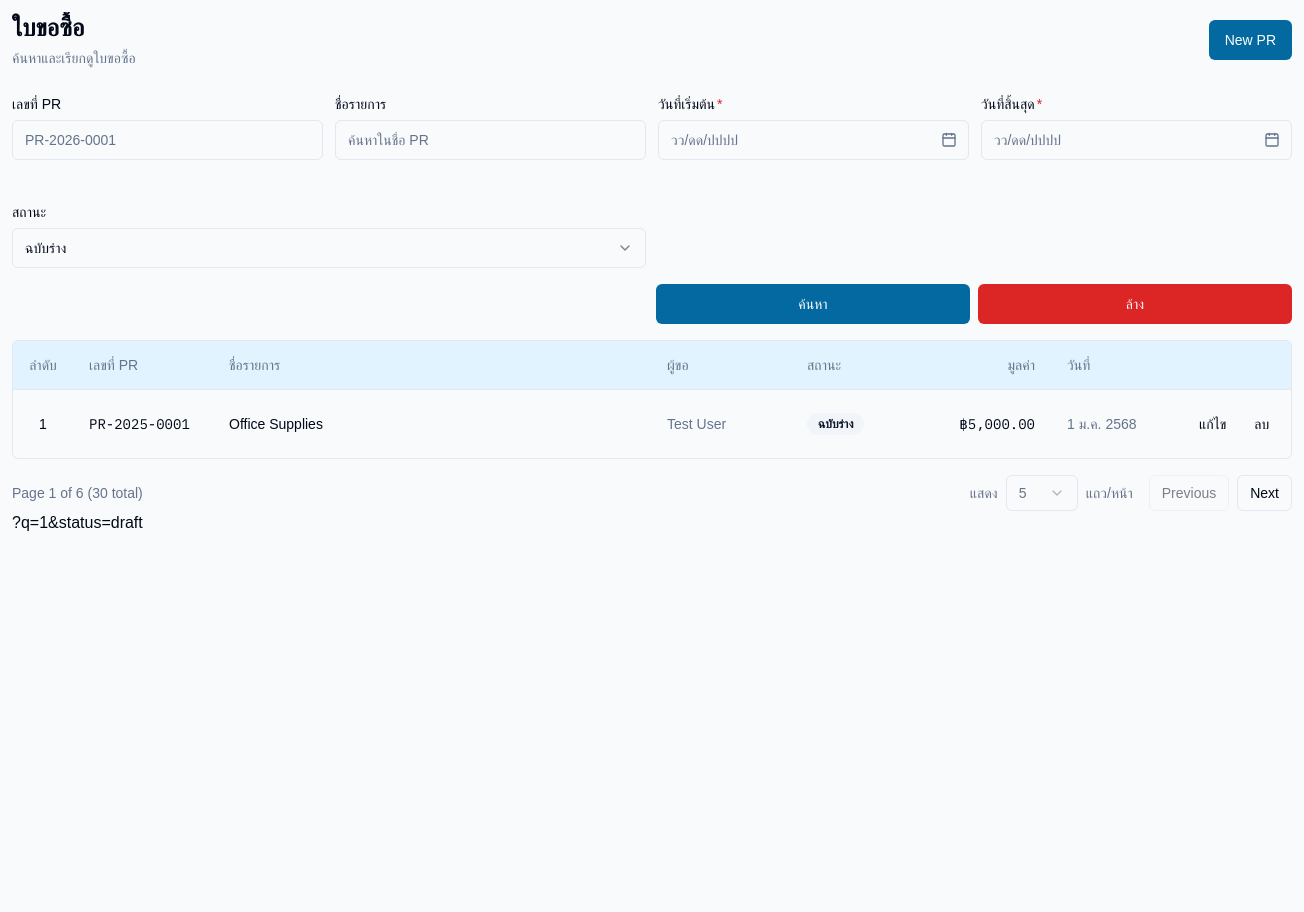
Test: PRListPage › preserves ?status= in the URL when the page size changes (merge-safe)
This screenshot has width=1304, height=912.
Click the dropdown named "จำนวนแถวต่อหน้า" at coordinates (1042, 492), box [1006,474,1078,510]
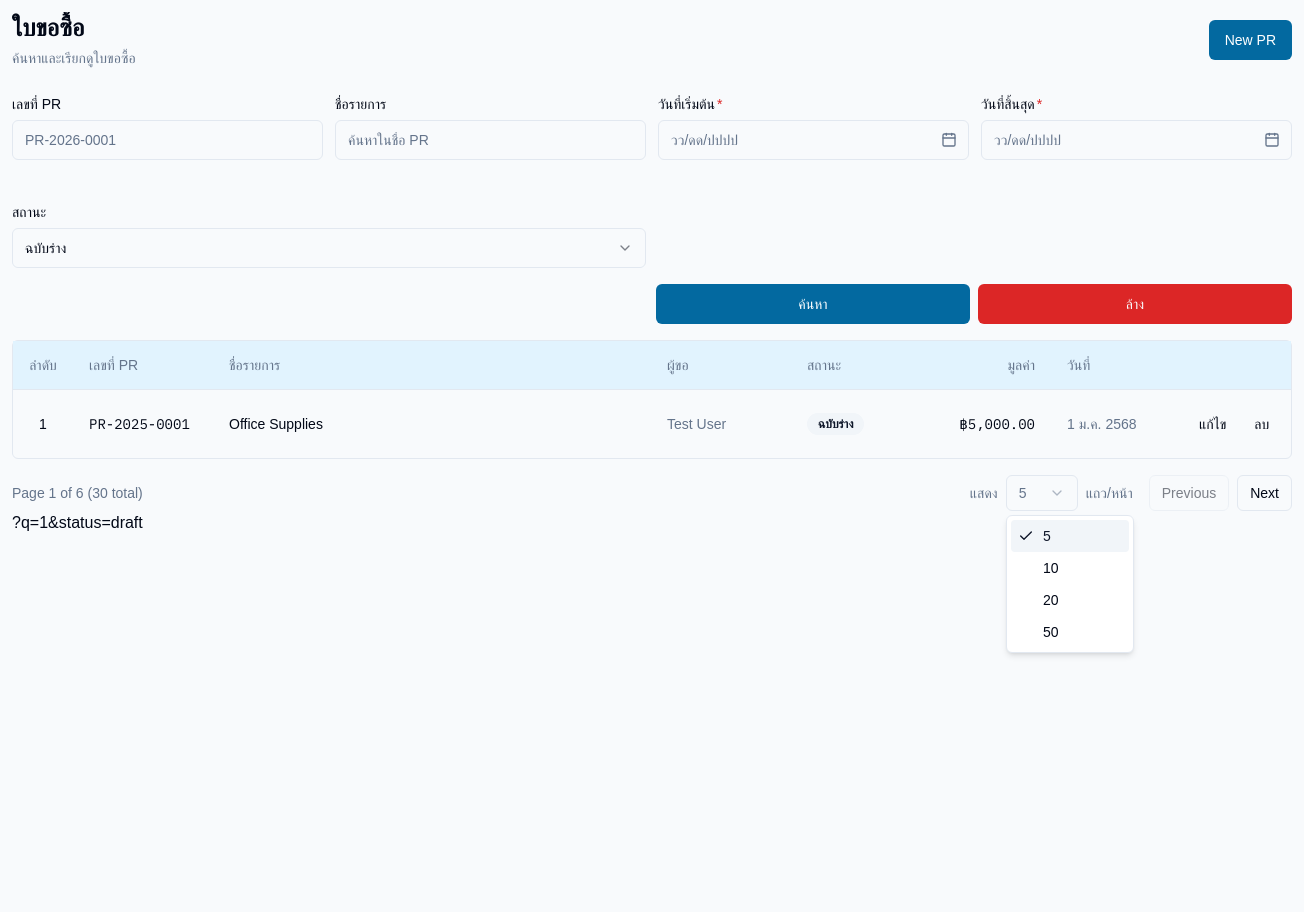
Click the option "20" at coordinates (1051, 600), box [1043,592,1059,608]
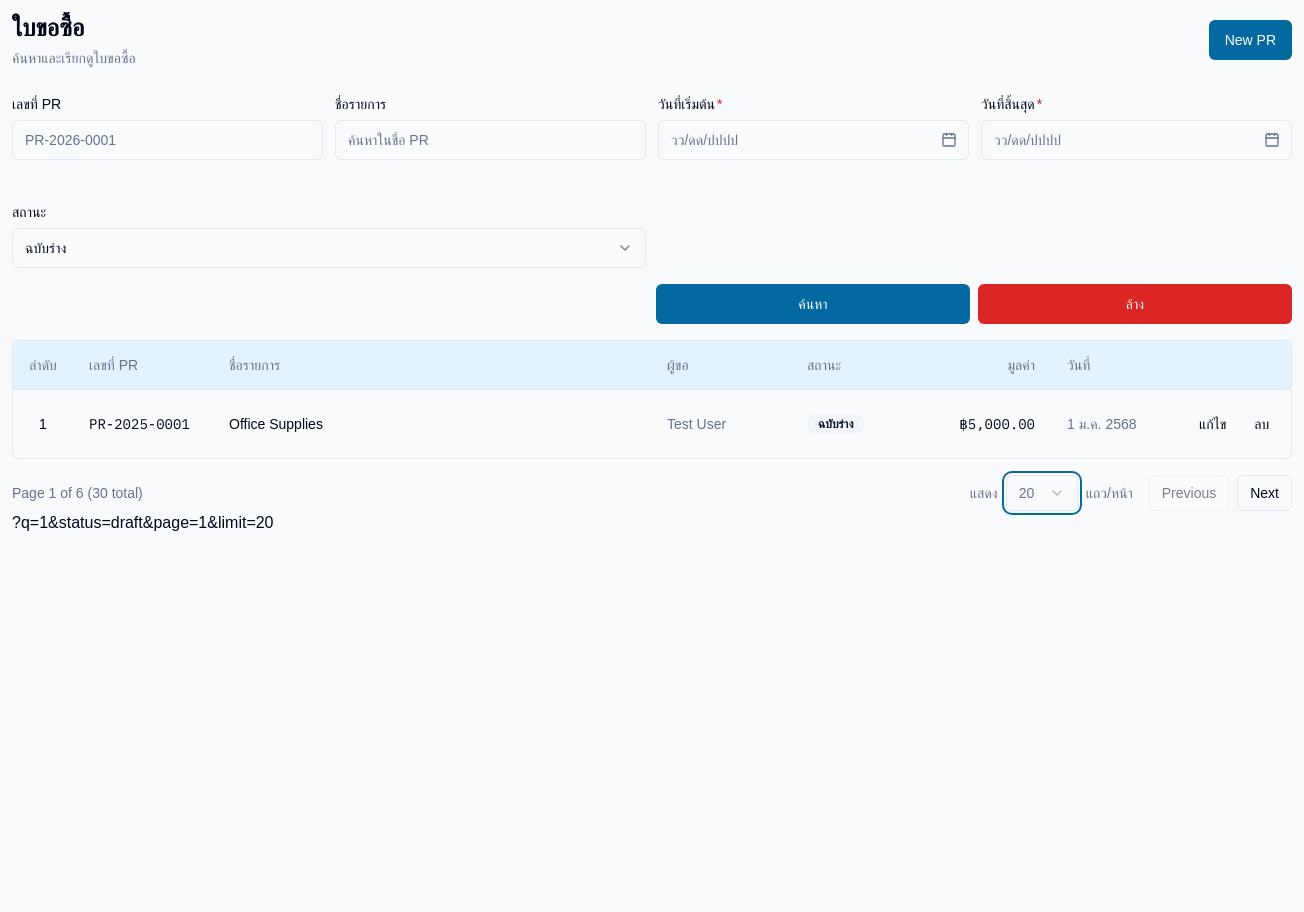
Expected: the text with test id "loc-search" shows "status=draft", [12,514,274,530]
Result: the text with test id "loc-search" shows "limit=20" at [12,514,274,530]
